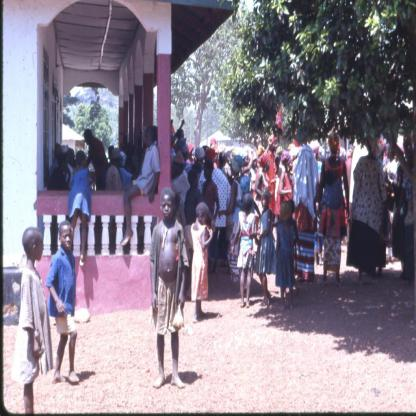face: (162, 196, 174, 220), (62, 228, 73, 251), (37, 234, 45, 262), (201, 211, 209, 226), (204, 166, 211, 180), (145, 131, 151, 147), (81, 154, 88, 166), (194, 174, 200, 188), (262, 198, 269, 210), (387, 147, 393, 159), (252, 159, 258, 170), (175, 164, 180, 176), (229, 154, 235, 164), (266, 159, 271, 170), (272, 140, 277, 151), (69, 152, 74, 163), (85, 136, 90, 146), (288, 161, 293, 171), (245, 157, 250, 166), (181, 132, 185, 141), (212, 143, 217, 149), (216, 155, 219, 160)
